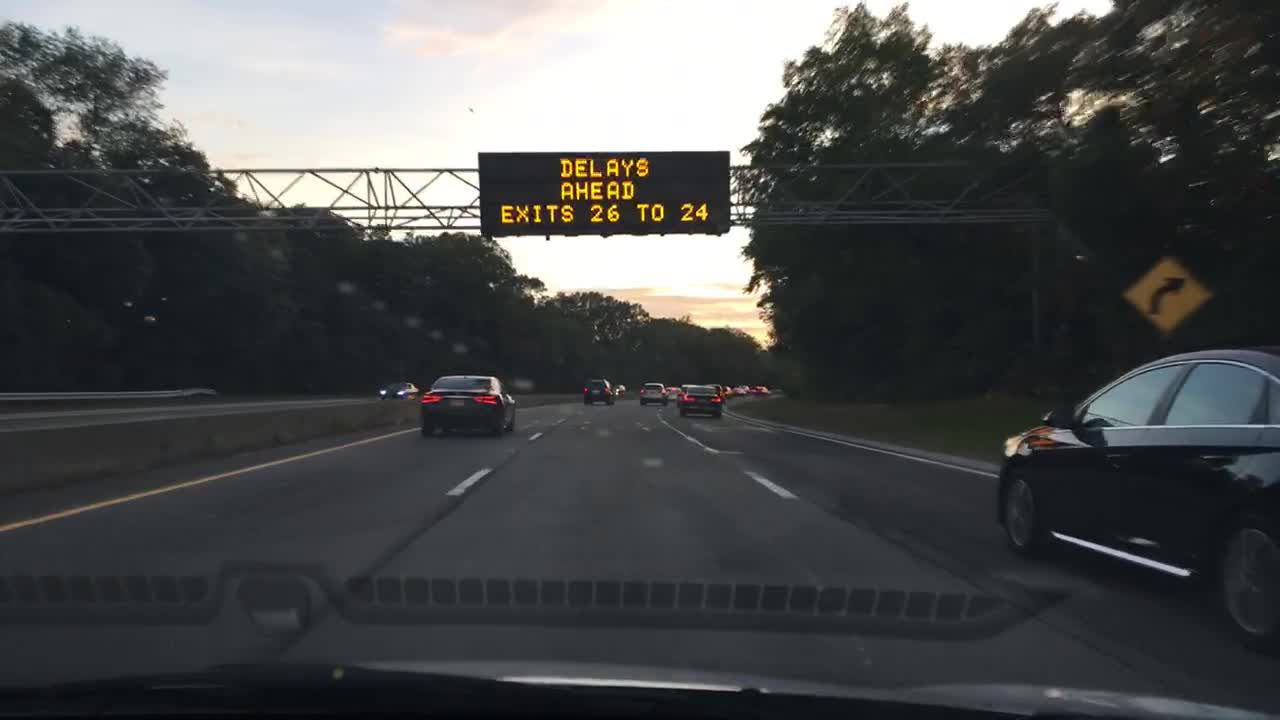car: (994, 351, 1277, 656), (420, 373, 519, 436), (677, 382, 723, 418), (580, 375, 612, 406), (377, 380, 417, 402), (638, 381, 667, 403), (666, 385, 680, 400), (611, 382, 626, 396), (752, 382, 767, 396), (722, 383, 733, 397), (736, 380, 750, 390), (738, 387, 749, 395)
traffic sign: (476, 150, 730, 235), (1119, 250, 1211, 335)
